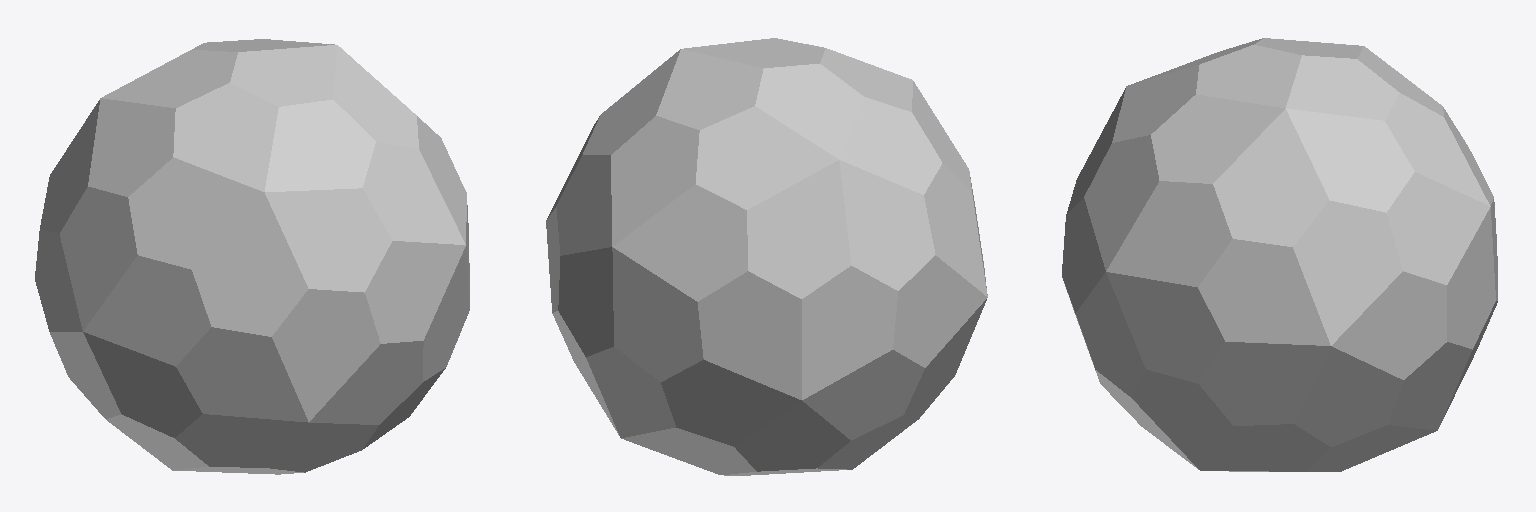
Rendered from PentagonalHexeContahedron.obj.
3 views of the same model, side by side, from view 1: azimuth 30°, elevation 25°; view 2: azimuth 150°, elevation 25°; view 3: azimuth 270°, elevation 25° (orthographic).
Parts seen in each view (by area): view 1: PentagonalHexeContahedron; view 2: PentagonalHexeContahedron; view 3: PentagonalHexeContahedron.
Boxes of the visible parts, box(x1,y1,x2,y2) form: PentagonalHexeContahedron: box(35, 39, 469, 474); PentagonalHexeContahedron: box(546, 38, 987, 475); PentagonalHexeContahedron: box(1062, 38, 1497, 471).
Size of the model in its own units: 5.58 by 5.36 by 5.37.